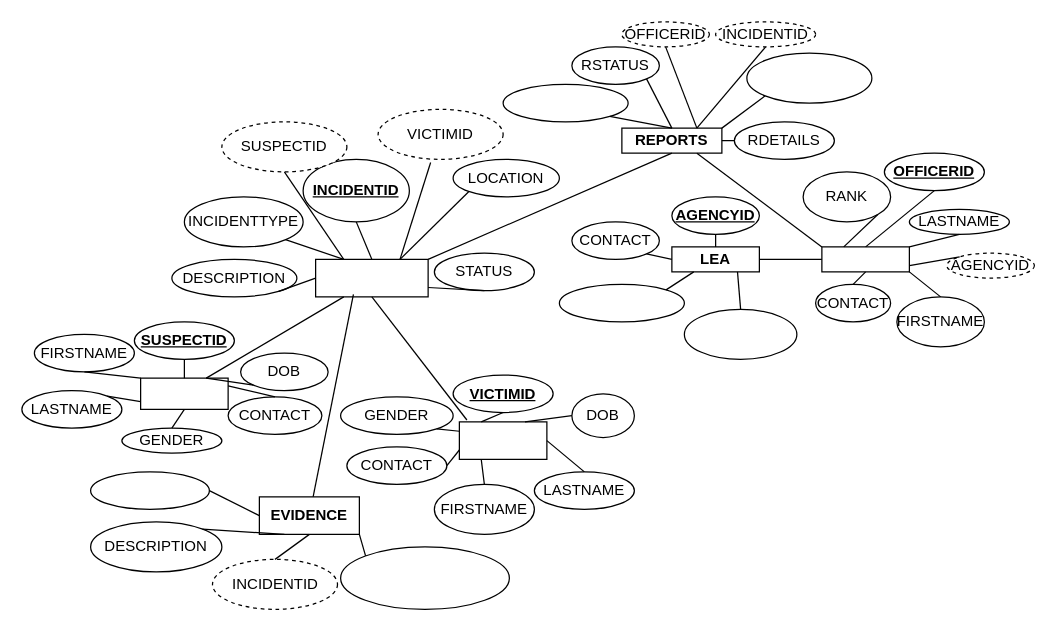
Some shapes in this 1056 by 631 pixel diagram are drawn without their labels. Each missing label, with the box of its shape:
AGENCYNAME: (683, 308, 797, 359)
EVIDENCEID: (89, 471, 209, 509)
INCIDENTS: (314, 258, 428, 297)
JURISDICTION: (558, 283, 684, 322)
LOCATION FOUND: (339, 546, 509, 609)
OFFICERS: (821, 246, 909, 272)
REPORTDATE: (746, 52, 872, 103)
REPORTID: (502, 83, 628, 122)
SUSPECTS: (139, 377, 228, 409)
VICTIMS: (458, 421, 547, 459)
